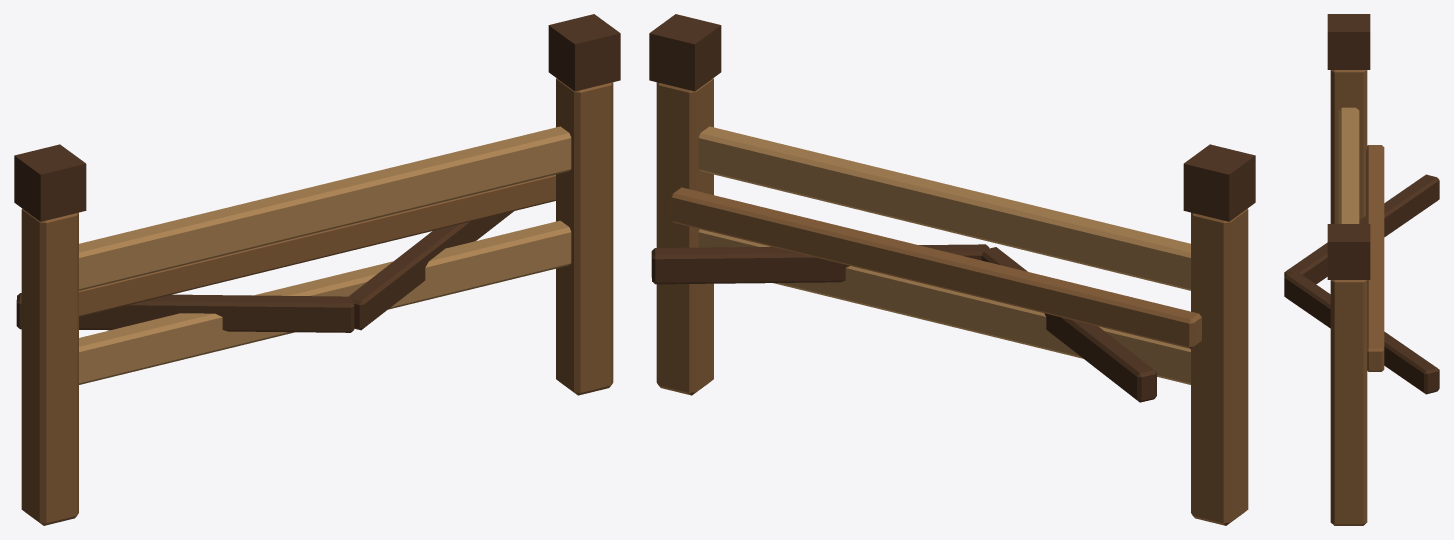
File: fence.fbx
3 views of the same model, side by side, from view 1: azimuth 30°, elevation 25°; view 2: azimuth 150°, elevation 25°; view 3: azimuth 270°, elevation 25° (orthographic). The views are drawn at different scales.
Visible parts, largest first — view 1: fence; view 2: fence; view 3: fence.
Boxes of the visible parts, x1,y1,x2,y2 form: fence: (14,14,620,525); fence: (649,14,1255,525); fence: (1284,14,1439,525).
Size of the model in its own units: 206 by 121 by 59.28.
